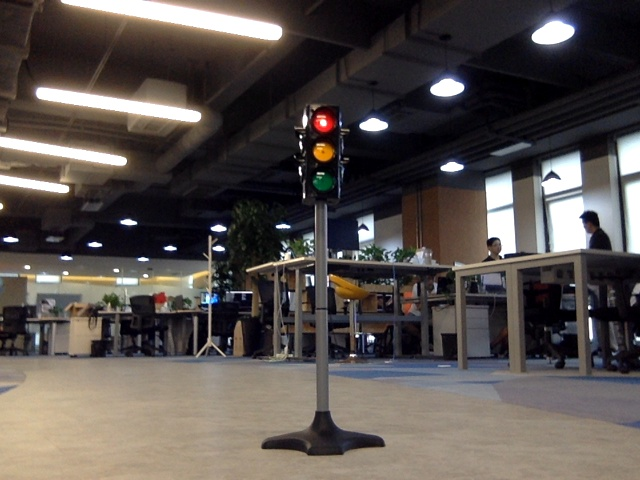red: (309, 109, 336, 194)
